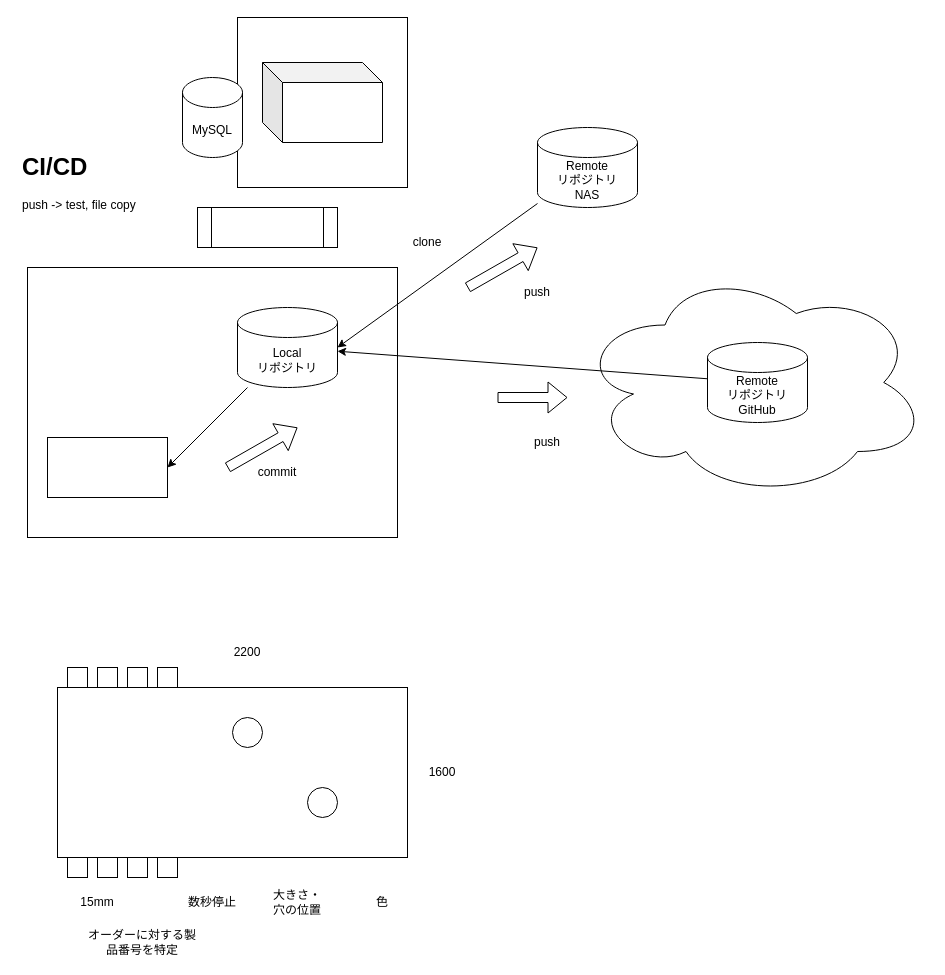
Some shapes in this 945 by 975 pixel diagram are drawn without their labels. Here are the shapes that lost their labels. From the top down, the box of each, then its label:
(262, 62, 382, 142): Server
(46, 436, 168, 498): File
